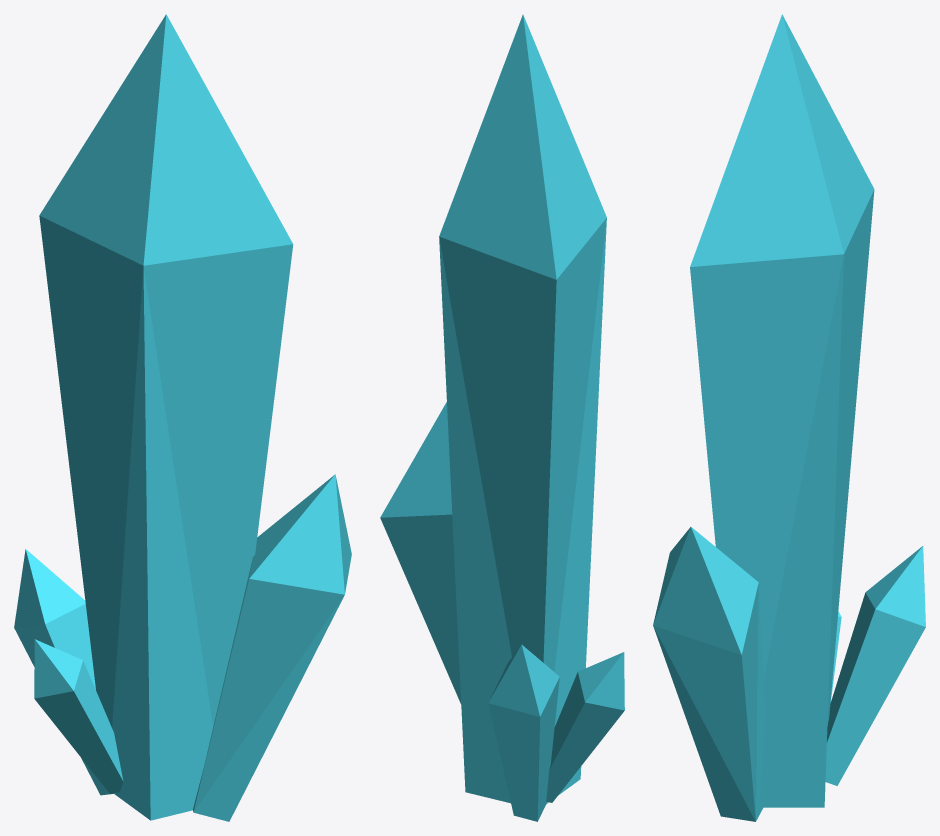
Rendered from crystal4.fbx.
3 renders of one model, left to right at view 1: azimuth 30°, elevation 25°; view 2: azimuth 150°, elevation 25°; view 3: azimuth 270°, elevation 25°, orthographic.
Parts seen in each view (by area): view 1: crystal1.003; view 2: crystal1.003; view 3: crystal1.003.
Part boxes in pixels (bbox=[...]): crystal1.003: bbox=[14, 14, 351, 821]; crystal1.003: bbox=[380, 14, 624, 821]; crystal1.003: bbox=[653, 14, 925, 821].
Bounding box in the file's own units: 110 × 296 × 92.95.
